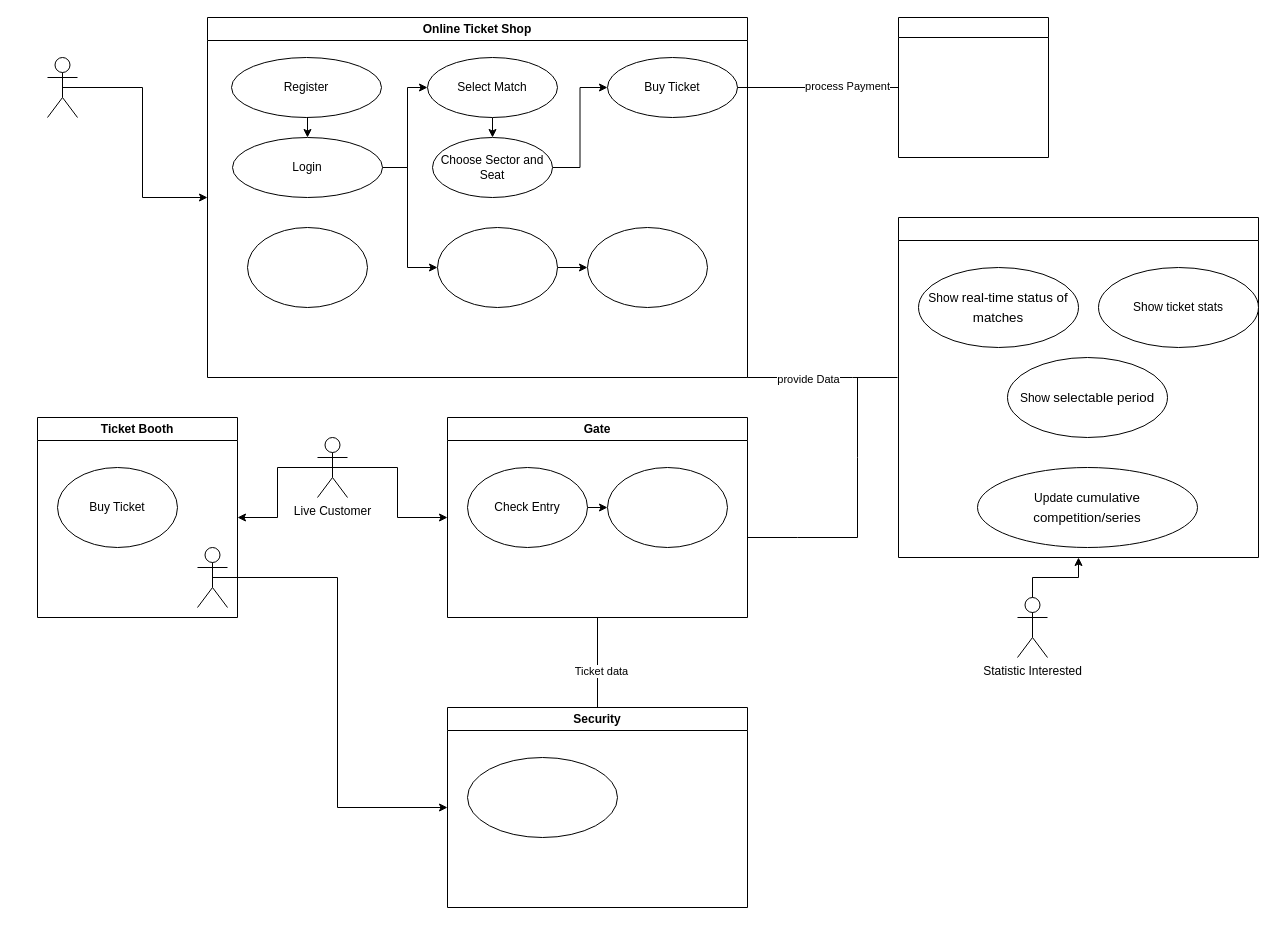
The diagram is 1276 pixels wide and 925 high, and some of its shapes have lost their labels. The box of each missing label's shape, as (x1, y1, x2, y2) in pixels:
Cancel Reserve: (586, 226, 708, 308)
Notify double Entry try: (466, 756, 618, 838)
Online Customer: (46, 56, 78, 118)
Payment Service: (898, 16, 1048, 158)
Register Leave: (606, 466, 728, 548)
Reserve: (436, 226, 558, 308)
Show available Seating: (246, 226, 368, 308)
Staff: (196, 546, 228, 608)
Statistic: (898, 216, 1258, 558)
